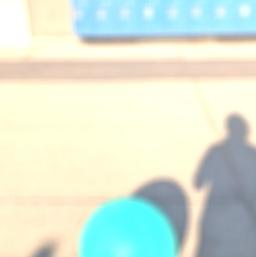algae: (74, 192, 180, 257)
